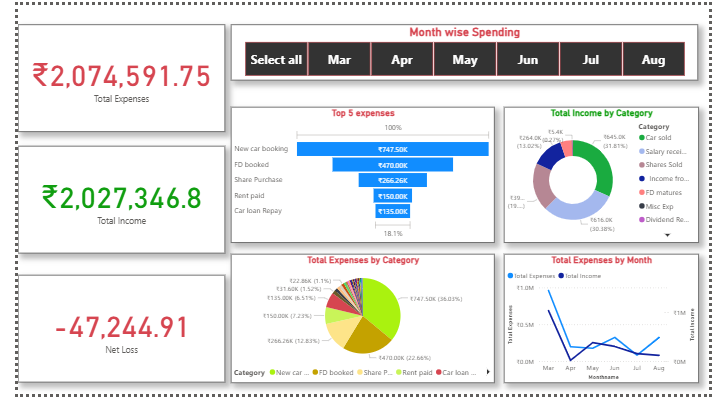

The page's visual inventory and layout, read from the dashboard file:
{"tool":"powerbi","page":{"name":"Expenses  Vs Income 1","canvas":[1280,720],"ordinal":0},"visuals":[{"type":"card","fields":{"Values":["_Measures.Total Expenses"]},"box":[0,35.9,383.4,198.6],"z":0},{"type":"card","fields":{"Values":["_Measures.Total Income"]},"box":[0,262.1,383.4,198.6],"z":1000},{"type":"card","fields":{"Values":["_Measures.NEt Loss"]},"box":[0,499.3,383.4,198.6],"z":2000},{"type":"pieChart","fields":{"Category":["Expenses.Category"],"Y":["_Measures.Total Expenses"]},"box":[394.9,459.7,488.1,239],"z":3000},{"type":"funnel","title":"Top 5 expenses","fields":{"Category":["Expenses.Category"],"Y":["_Measures.Total Expenses"]},"box":[394.9,188.4,488.1,251.1],"z":4000},{"type":"donutChart","fields":{"Y":["_Measures.Total Income"],"Category":["Income.Category"]},"box":[899.2,188.4,360.5,251.1],"z":5000},{"type":"lineChart","title":"Total Expenses by Month","fields":{"Y":["_Measures.Total Expenses"],"Category":["calendar.Monthname"],"Y2":["_Measures.Total Income"]},"box":[899.2,459.7,360.5,239],"z":5001},{"type":"slicer","title":"Month wise Spending","fields":{"Values":["calendar.Monthname"]},"box":[394.9,36.5,864.8,103.3],"z":5002}]}

Visuals, with their boxes in screenshot pixels (x1, y1, x2, y2), scaled from the page's 1280x720 canvas onto the 727x405 screenshot:
card - _Measures.Total Expenses: [0,20,218,132]
card - _Measures.Total Income: [0,147,218,259]
card - _Measures.NEt Loss: [0,281,218,393]
pieChart - Expenses.Category x _Measures.Total Expenses: [224,259,502,393]
"Top 5 expenses" funnel: [224,106,502,247]
donutChart - _Measures.Total Income x Income.Category: [511,106,715,247]
"Total Expenses by Month" lineChart: [511,259,715,393]
"Month wise Spending" slicer: [224,21,715,79]
